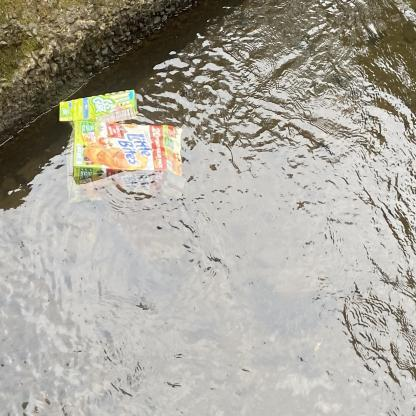trash: (62, 117, 189, 209), (55, 88, 142, 130)
